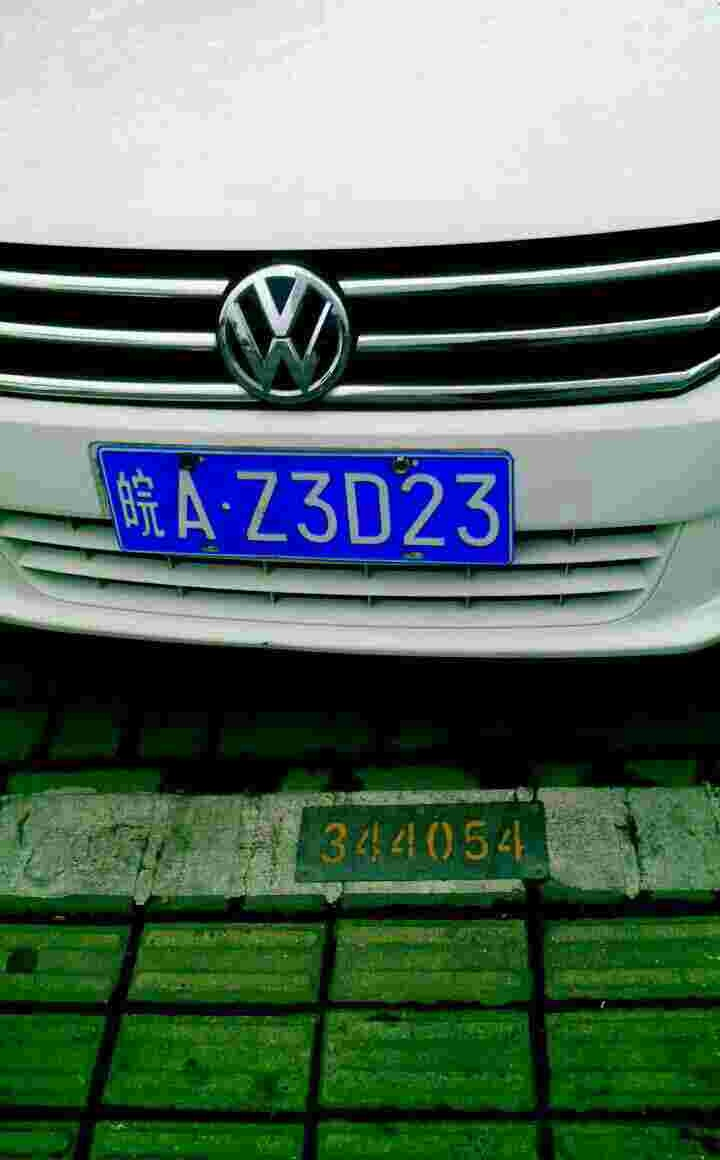car_blue: (96, 447, 518, 578)
